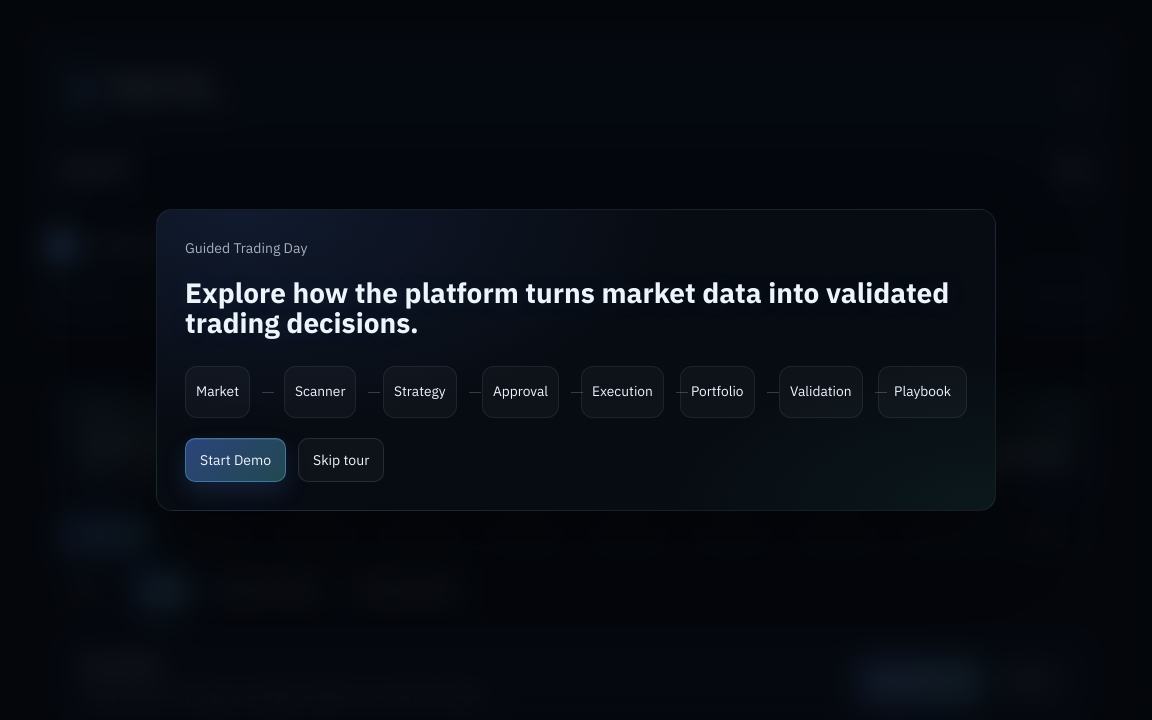
Test: render safety › renders demo fixture text safely
This screenshot has width=1152, height=720.
Click the button "Start Demo" at (236, 460), box [185,438,286,482]
(page scrolled)
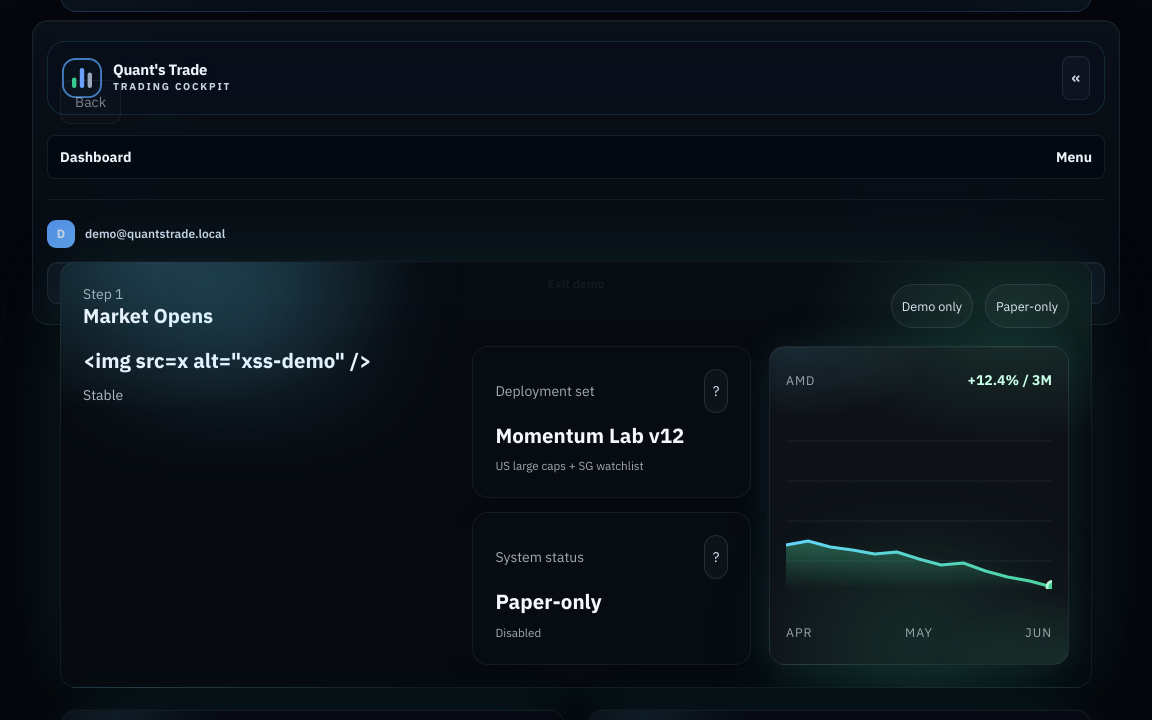
expect the heading "Market Opens" is shown: met, box [83,304,213,328]
expect the text "<img src=x alt=\"xss-demo\" />" is shown: met, box [83,347,372,374]
